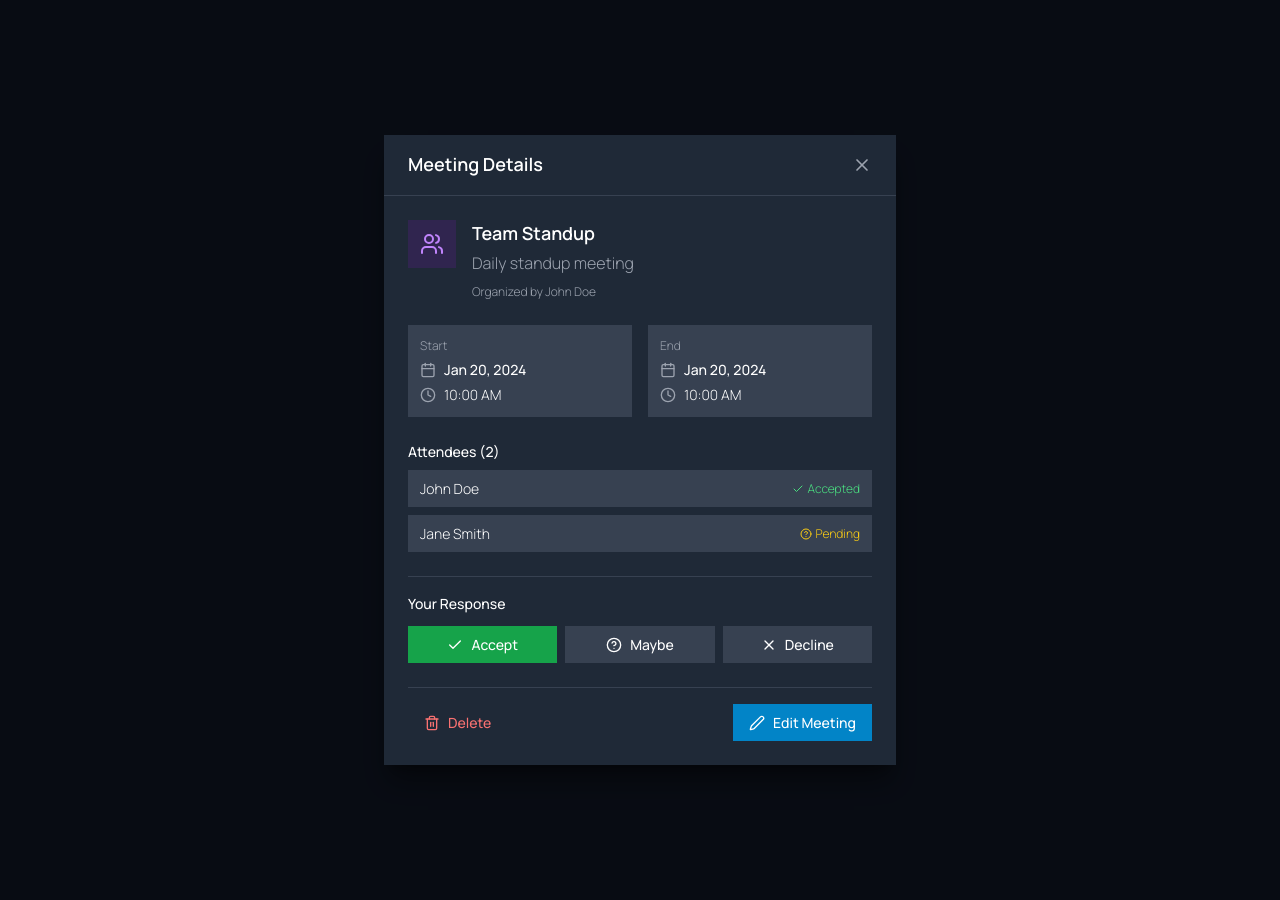
ViewMeetingModal › delete functionality › shows confirmation when delete is clicked
Click the button "Delete": (458, 722) [408, 704, 507, 741]
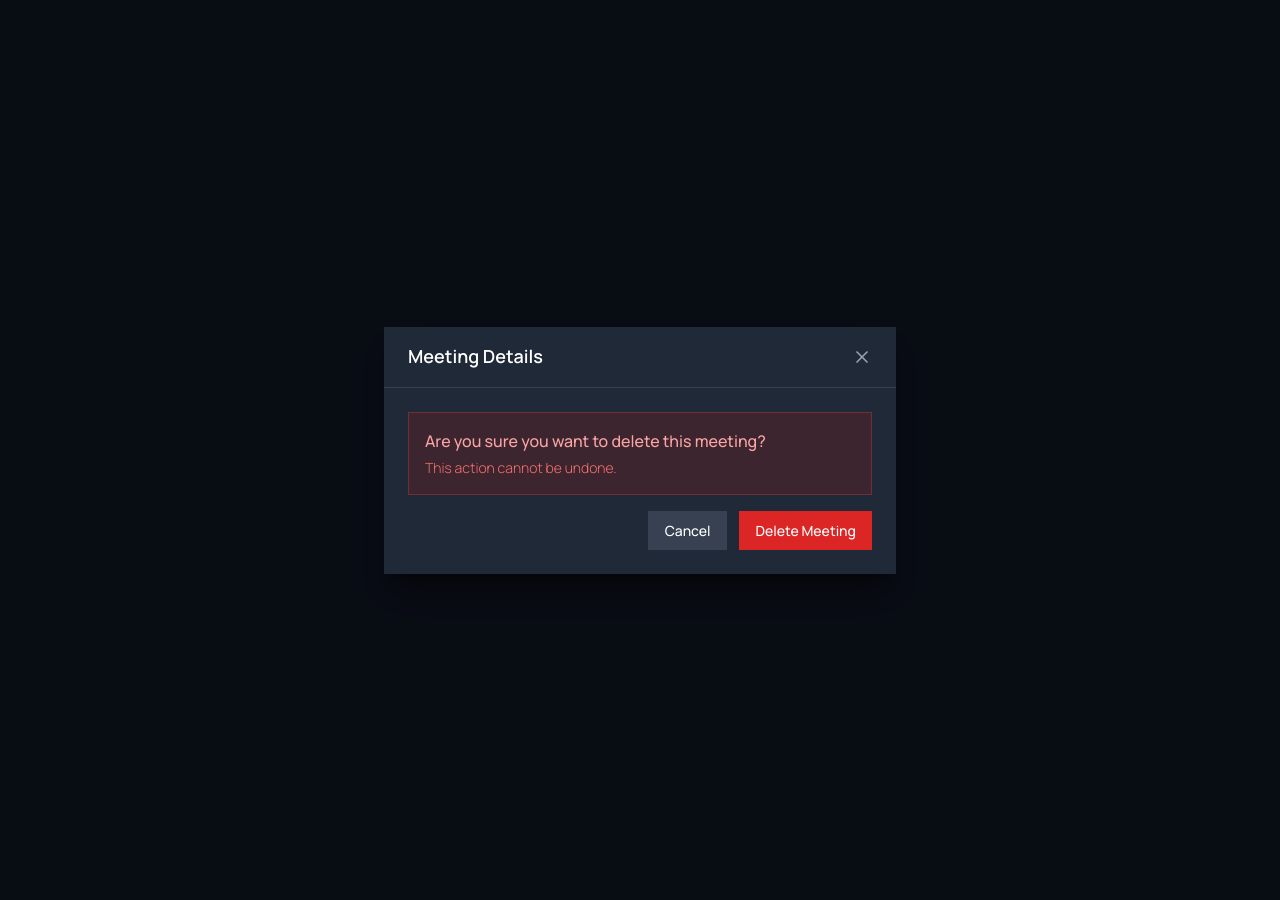
Check: the text "Are you sure you want to delete this meeting?" is shown, box [425, 430, 766, 452]
